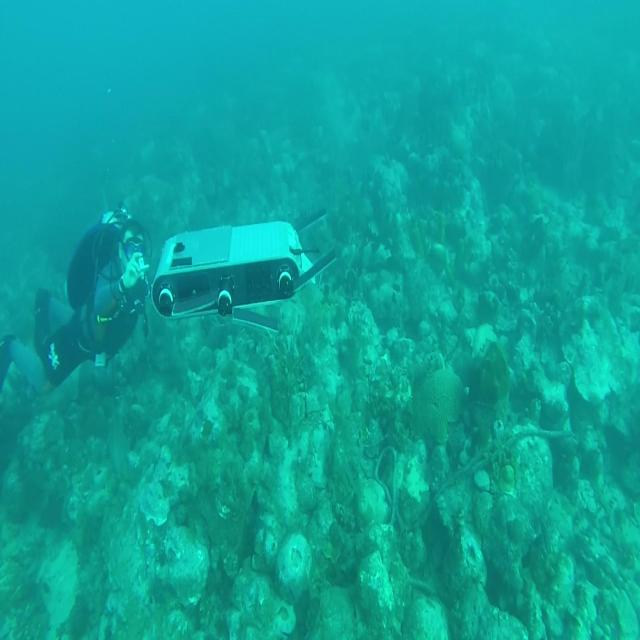human: (1, 203, 151, 399)
